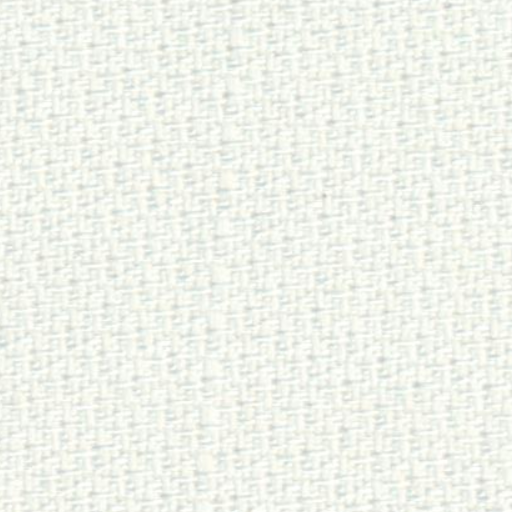TuoSha: (172, 12, 277, 502)
